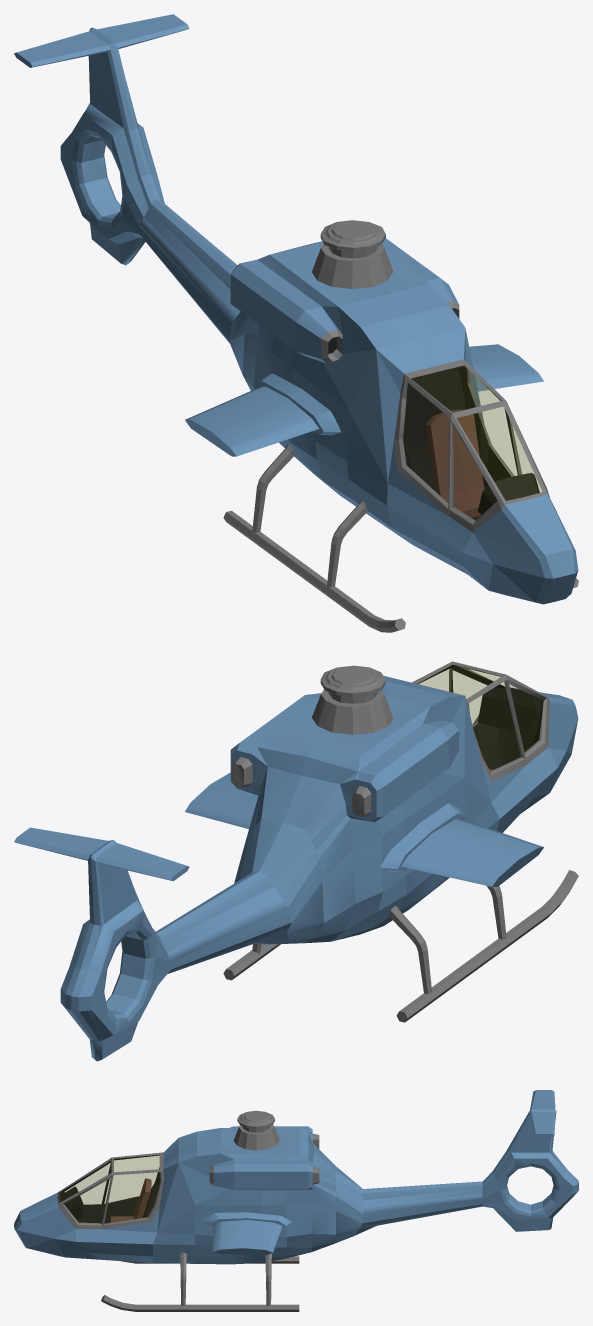
The model's file is aircraft_10_damage.glb.
3 views of the same model, one above another, from view 1: azimuth 30°, elevation 25°; view 2: azimuth 150°, elevation 25°; view 3: azimuth 270°, elevation 25° (orthographic). The views are drawn at different scales.
Parts seen in each view (by area): view 1: Fuselage, TailBreakaway, Skids, seat, RotorShaft, instrument panel; view 2: Fuselage, TailBreakaway, Skids, instrument panel, RotorShaft; view 3: Fuselage, TailBreakaway, Skids, RotorShaft, seat, instrument panel.
Boxes of the visible parts, box(x1,y1,x2,y2) form: Fuselage: box(185, 238, 578, 604); TailBreakaway: box(14, 14, 257, 390); Skids: box(223, 444, 578, 632); seat: box(426, 409, 484, 517); RotorShaft: box(320, 220, 385, 258); instrument panel: box(477, 472, 539, 514); Fuselage: box(185, 661, 578, 941); TailBreakaway: box(14, 750, 376, 1061); Skids: box(223, 870, 578, 1022); instrument panel: box(477, 687, 540, 735); RotorShaft: box(320, 665, 385, 703); Fuselage: box(14, 1124, 312, 1264); TailBreakaway: box(312, 1090, 578, 1251); Skids: box(101, 1252, 299, 1311); RotorShaft: box(237, 1110, 274, 1132); seat: box(111, 1178, 151, 1222); instrument panel: box(60, 1186, 83, 1219).
Size of the model in its own units: 3.61 by 3.46 by 10.01.
